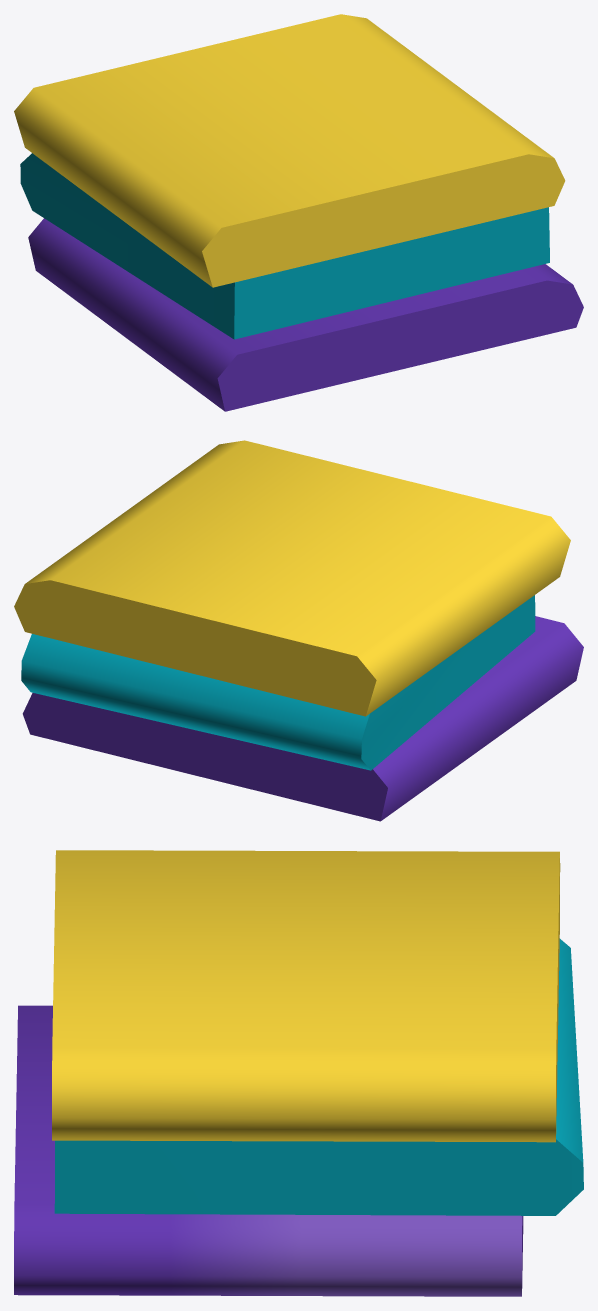
The model's file is shop_039.fbx.
3 renders of one model, top to bottom at view 1: azimuth 30°, elevation 25°; view 2: azimuth 150°, elevation 25°; view 3: azimuth 270°, elevation 25°, orthographic. The views are drawn at different scales.
Visible parts, largest first — view 1: shop_039; view 2: shop_039; view 3: shop_039.
Part boxes in pixels (x1=…): shop_039: x1=14, y1=14, x2=583, y2=411; shop_039: x1=14, y1=440, x2=583, y2=821; shop_039: x1=14, y1=850, x2=583, y2=1296.
Bounding box in the file's own units: 40.54 × 41.03 × 17.96.
